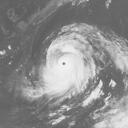cyclone: (40, 32, 91, 95)
